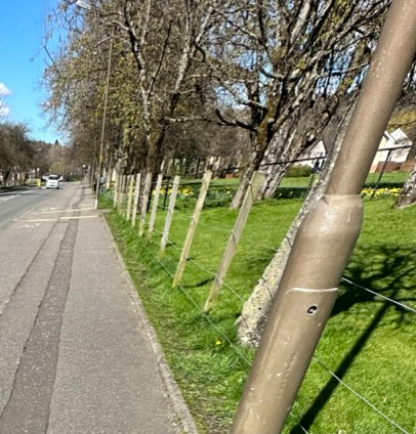car: (43, 169, 62, 196)
tree: (198, 0, 382, 191), (100, 0, 200, 169)
